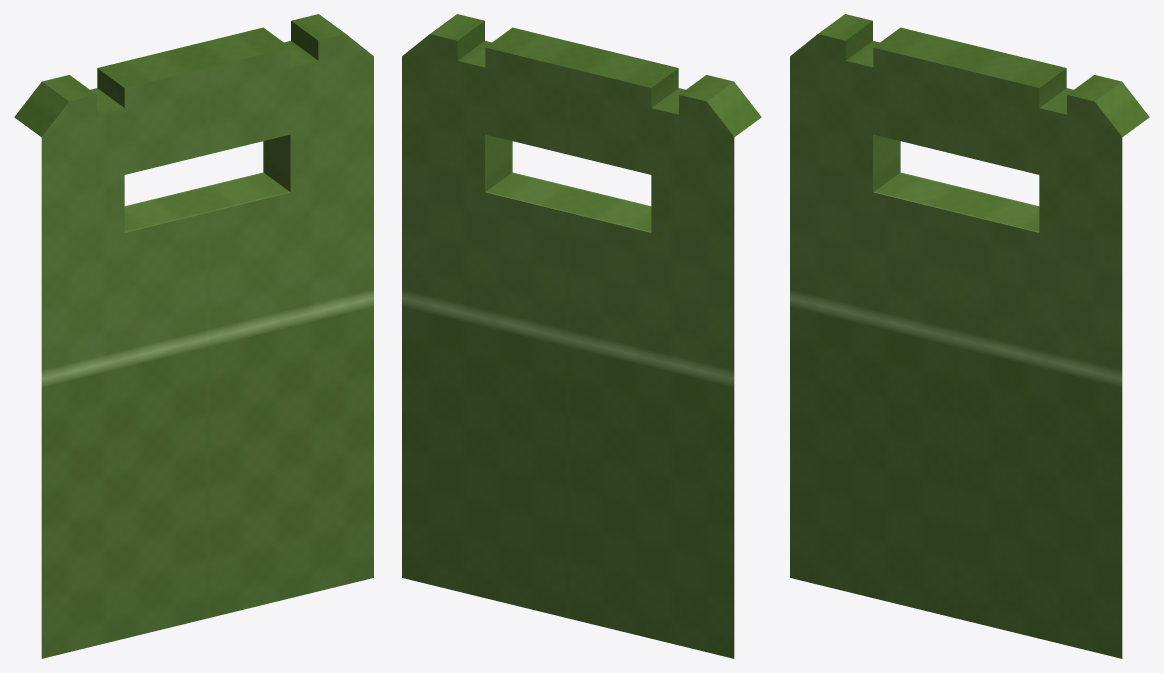
Rendered from grave_powered_doorway_door_window.glb.
3 renders of one model, left to right at view 1: azimuth 30°, elevation 25°; view 2: azimuth 150°, elevation 25°; view 3: azimuth 330°, elevation 25°, orthographic.
Visible parts, largest first — view 1: powered_doorway_door_window; view 2: powered_doorway_door_window; view 3: powered_doorway_door_window.
Part boxes in pixels (x1,y1,x2,y2): powered_doorway_door_window: (14, 14, 373, 658); powered_doorway_door_window: (402, 14, 761, 658); powered_doorway_door_window: (790, 14, 1149, 658).
Size of what is drawn, in the model's own units: 1.2 by 1.9 by 0.1711.
Materials: 1 (1 with a texture image).
